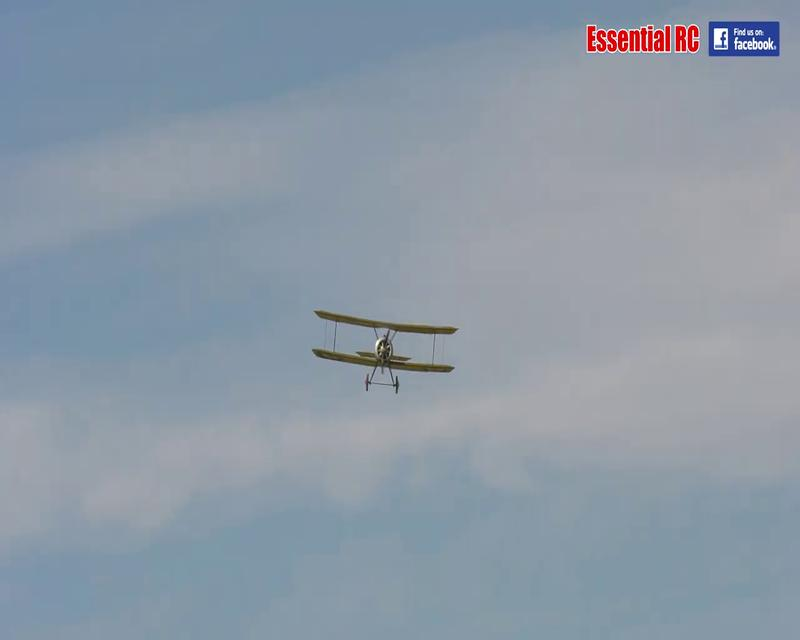UAV: (313, 310, 460, 395)
